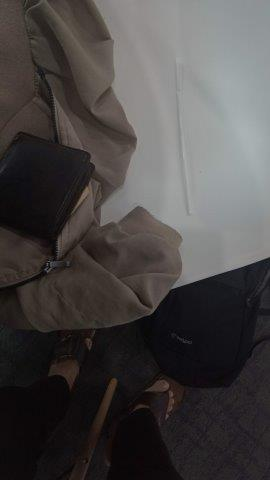sedotan: (175, 57, 196, 216)
